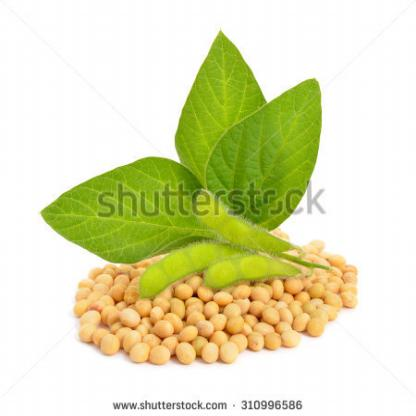Soyabean leaf: (201, 77, 324, 233), (37, 154, 205, 267), (175, 28, 266, 191)
